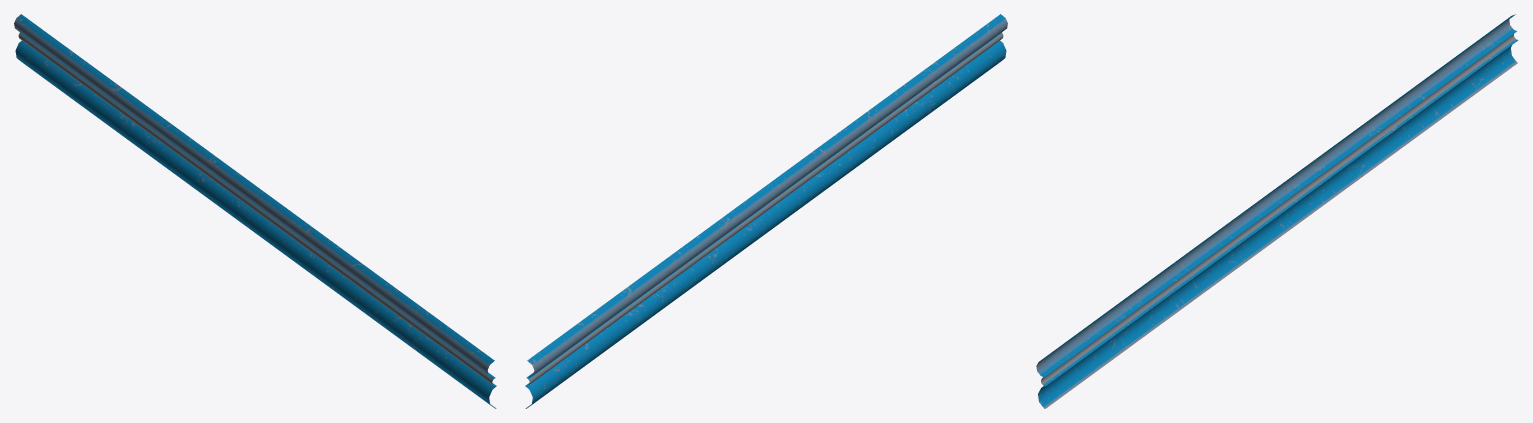
Rendered from PipeA.fbx.
3 renders of one model, left to right at view 1: azimuth 30°, elevation 25°; view 2: azimuth 150°, elevation 25°; view 3: azimuth 330°, elevation 25°, orthographic.
Visible parts, largest first — view 1: PipeA; view 2: PipeA; view 3: PipeA.
Part boxes in pixels (bbox=[...]): PipeA: bbox=[14, 14, 496, 408]; PipeA: bbox=[525, 14, 1007, 408]; PipeA: bbox=[1036, 14, 1518, 408].
Size of the model in its own units: 16.95 by 84.54 by 1500.
